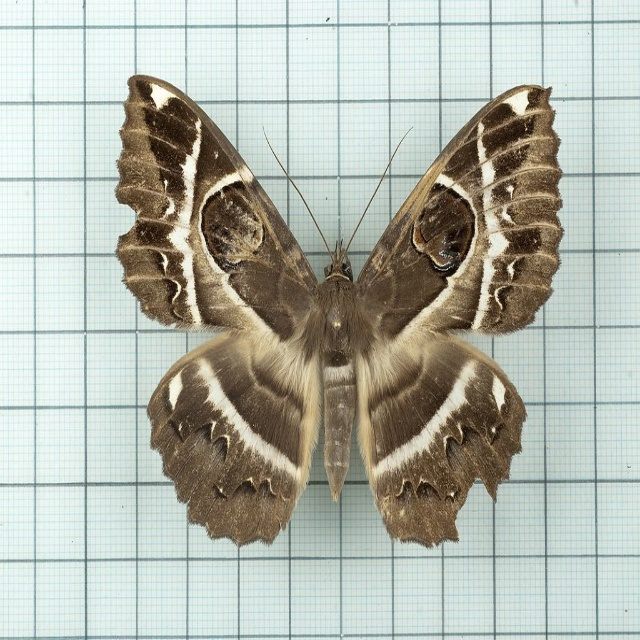Butterfly: (104, 59, 567, 556)
